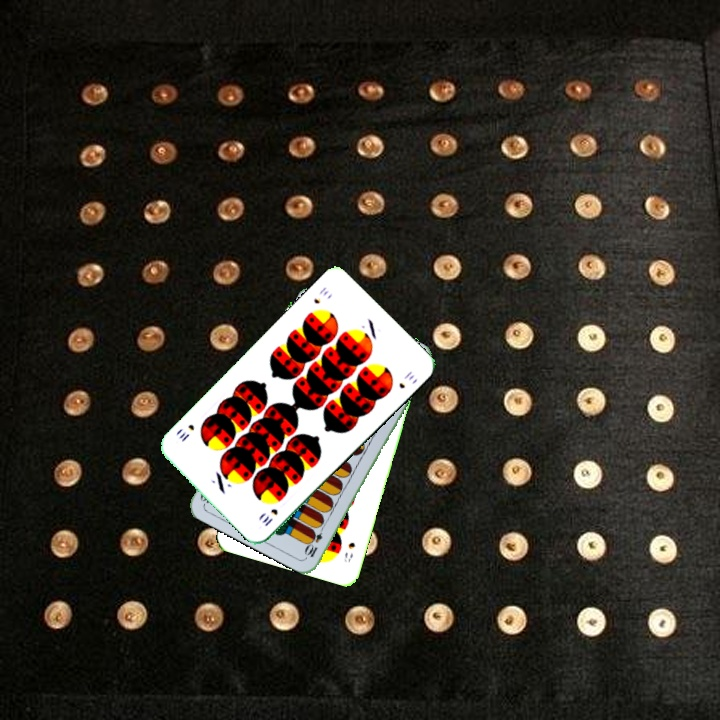E10: (302, 521, 327, 560)
S10: (258, 505, 280, 529), (310, 282, 331, 306)
S8: (340, 538, 358, 565)
